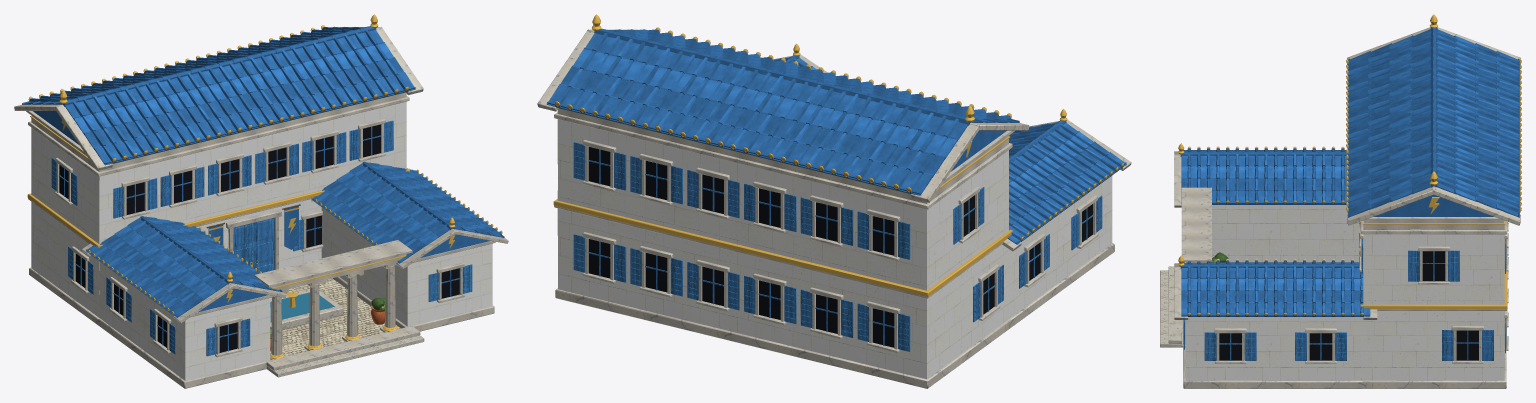
The model's file is home_grand-villa_t4.glb.
3 renders of one model, left to right at view 1: azimuth 30°, elevation 25°; view 2: azimuth 150°, elevation 25°; view 3: azimuth 270°, elevation 25°, orthographic. The views are drawn at different scales.
Parts seen in each view (by area): view 1: hall, marble, azure0, azure1, azure2, azure_wood, dark, gold, step, paving, paint_azure, cloth_azure (+1 smaller); view 2: hall, marble, azure0, azure1, azure_wood, azure2, dark, gold, paint_azure; view 3: hall, azure0, azure1, azure2, marble, azure_wood, gold, dark, step, paint_azure.
Part boxes in pixels (left/top/right/bottom): hall: left=31, top=101, right=492, bottom=380; marble: left=14, top=27, right=508, bottom=388; azure0: left=22, top=27, right=504, bottom=317; azure1: left=22, top=26, right=504, bottom=317; azure2: left=33, top=26, right=492, bottom=307; azure_wood: left=51, top=120, right=472, bottom=356; dark: left=59, top=124, right=459, bottom=352; gold: left=27, top=14, right=502, bottom=359; step: left=266, top=290, right=424, bottom=377; paving: left=270, top=278, right=400, bottom=356; paint_azure: left=33, top=111, right=490, bottom=312; cloth_azure: left=208, top=206, right=298, bottom=249; hall: left=557, top=119, right=1112, bottom=379; marble: left=537, top=29, right=1131, bottom=388; azure0: left=547, top=29, right=1126, bottom=244; azure1: left=547, top=28, right=1126, bottom=243; azure_wood: left=573, top=142, right=1102, bottom=351; azure2: left=559, top=29, right=1110, bottom=236; dark: left=588, top=147, right=1092, bottom=347; gold: left=553, top=14, right=1123, bottom=296; paint_azure: left=951, top=130, right=1006, bottom=171; hall: left=1185, top=205, right=1504, bottom=380; azure0: left=1181, top=29, right=1520, bottom=316; azure1: left=1180, top=27, right=1520, bottom=316; azure2: left=1181, top=36, right=1520, bottom=316; marble: left=1174, top=27, right=1520, bottom=388; azure_wood: left=1183, top=239, right=1506, bottom=360; gold: left=1178, top=14, right=1521, bottom=315; dark: left=1219, top=251, right=1478, bottom=360; step: left=1160, top=266, right=1182, bottom=347; paint_azure: left=1373, top=195, right=1493, bottom=216.
Bounding box in the file's own units: 13.98 × 8.54 × 12.82.
Materials: 17 (14 with a texture image).
